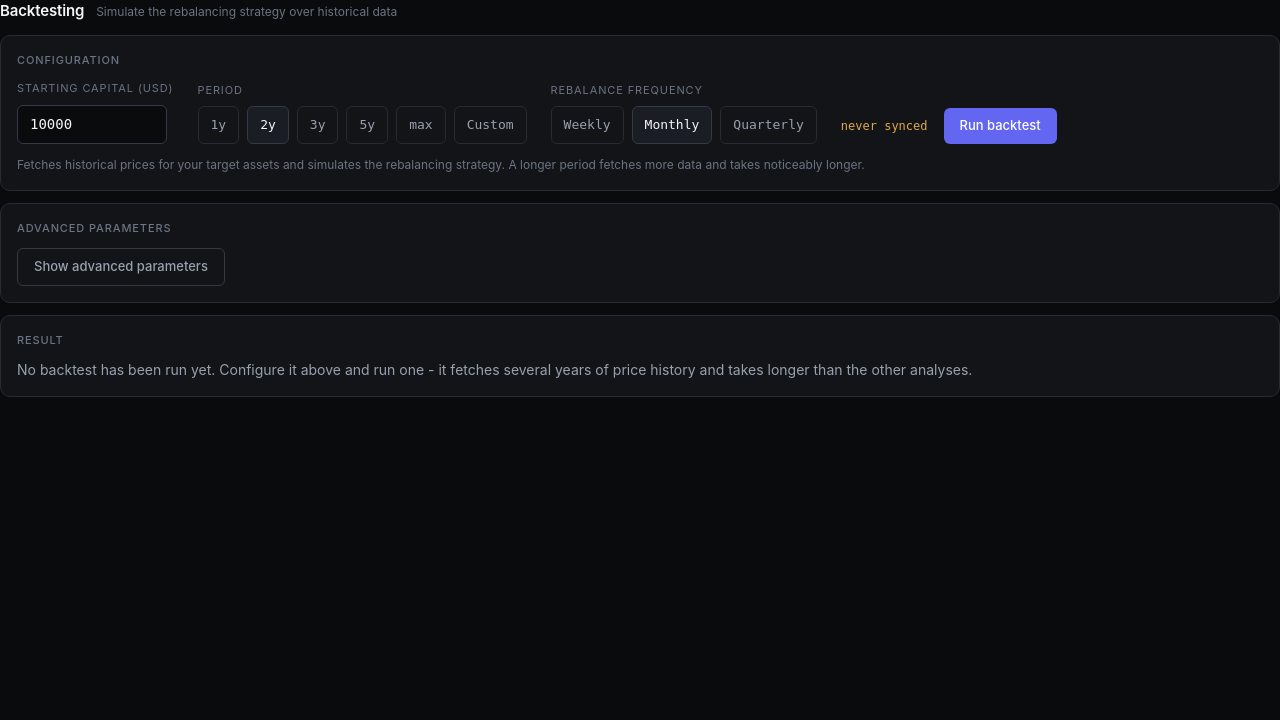
Test case: Backtest run payload › disables Run when custom weights do not sum to 100%
Expected: the button "Run backtest" is shown, [944,108,1057,144]
Click the button "Show advanced parameters" at x=121, y=267, box [17,248,225,286]
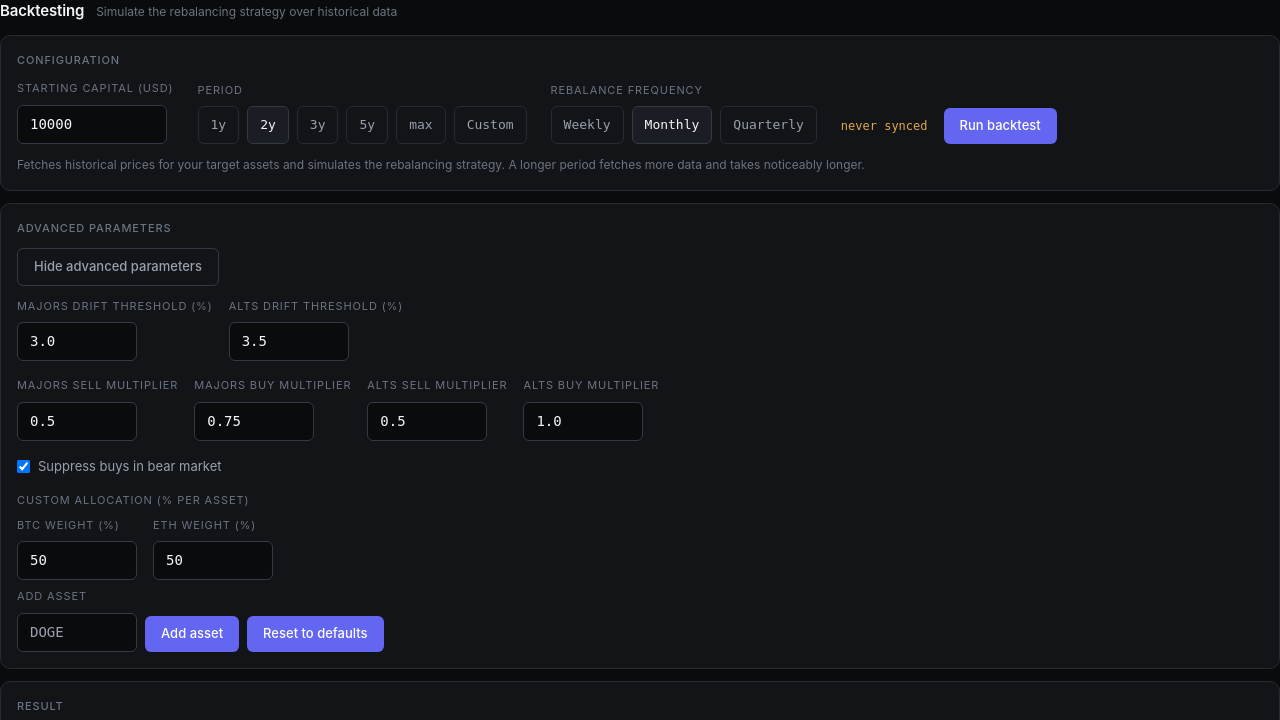
Expected: the number field labelled "BTC weight (%)" is shown
Replace the text in the number field labelled "BTC weight (%)" with "10" at x=77, y=560, box [17,541,137,580]
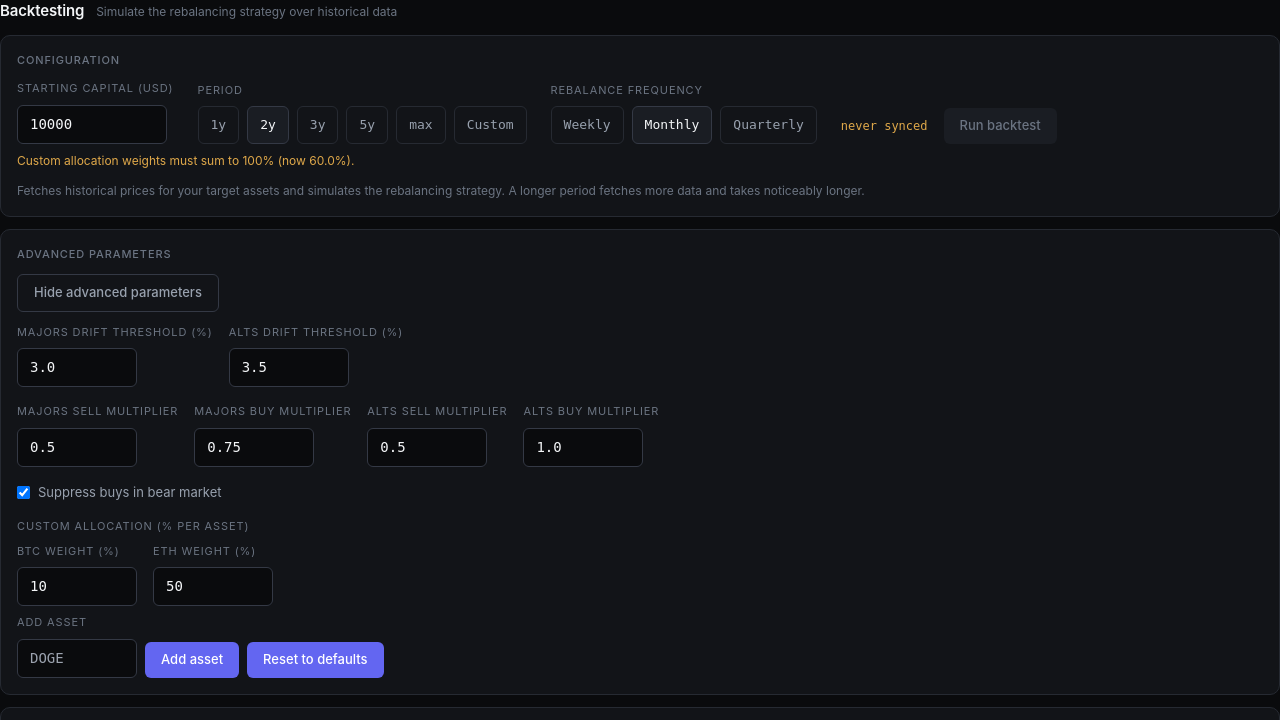
Expected: the button "Run backtest" is disabled, [944,108,1057,144]
Expected: the text "Custom allocation weights must sum to 100% (now 60.0%)." is shown, [17,152,354,168]
